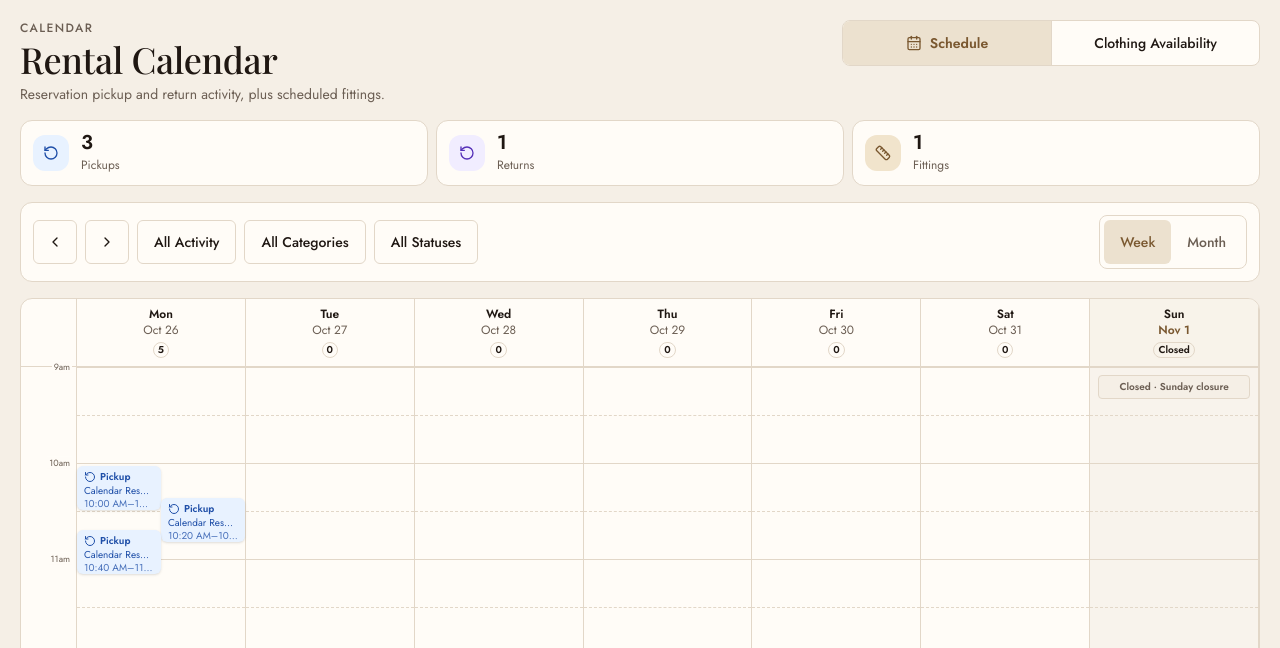
CalendarSchedulePage production details and states › opens the full Day Agenda from Month overflow
What coordinates should you click on to do the following:
click the button with aria-label "Month view"
I would click on:
 (1207, 242)
Its box is [1171,220,1242,264].
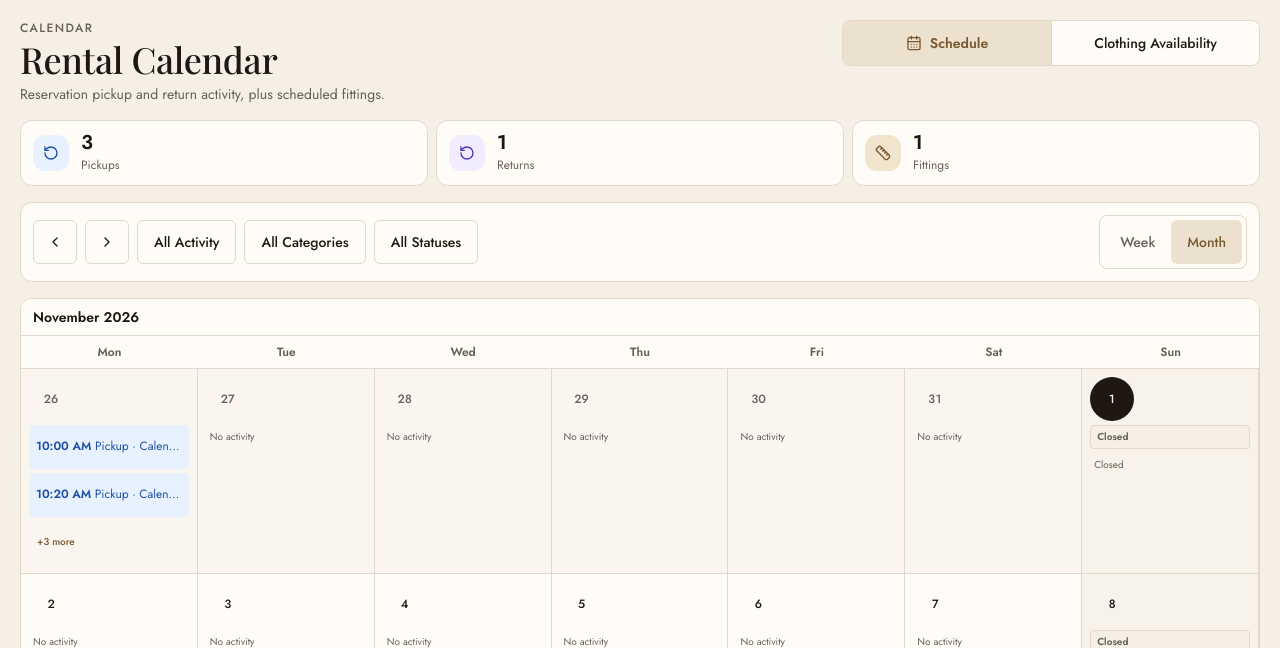
What coordinates should you click on to do the following:
click the button "+3 more"
I would click on:
 (56, 543)
Its box is [29,521,83,565].
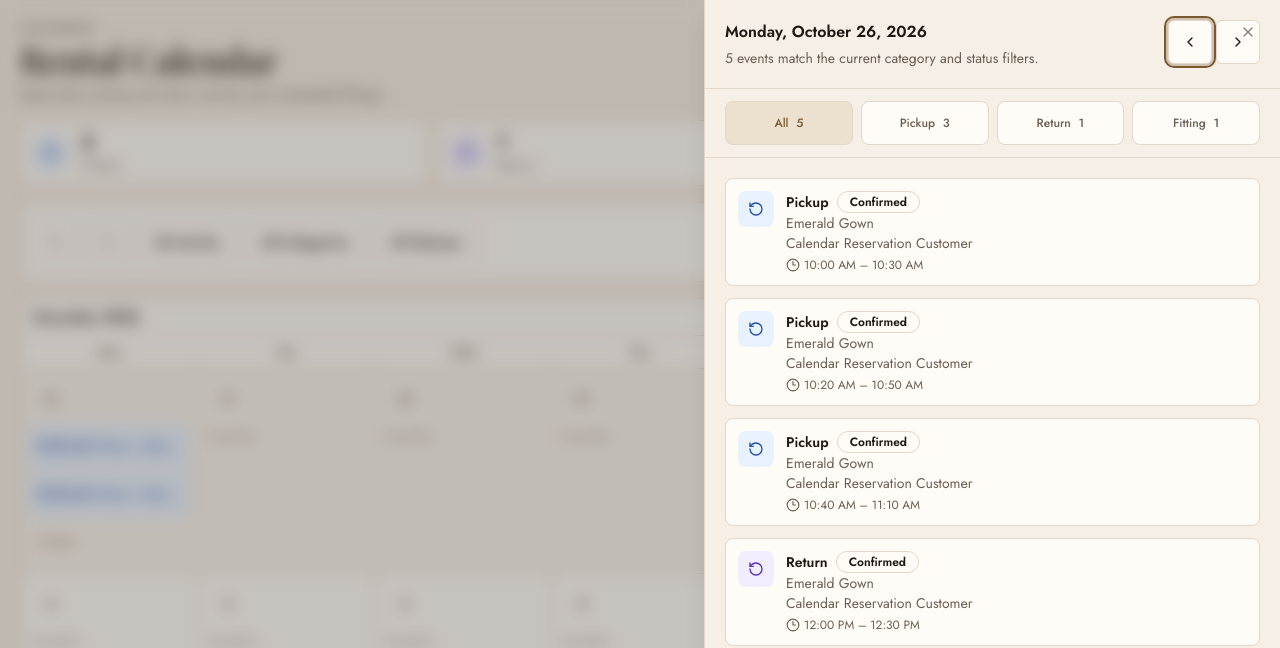
Result: the button "All 5" is shown at [725,101,853,145]
Result: the number of buttons named "Open reservation details: Pickup" is 3 at [725,178,1260,286]; [725,298,1260,406]; [725,418,1260,526]
